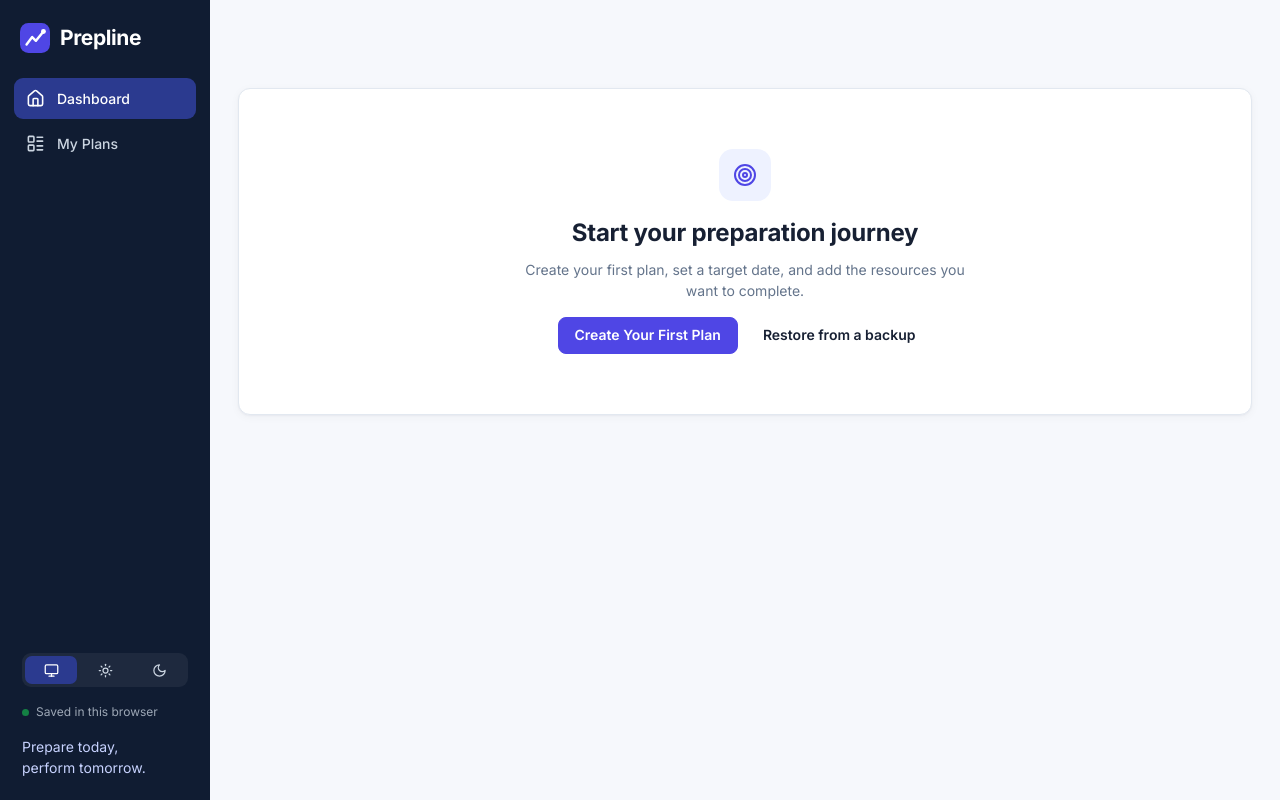
Test case: App › starts with an invitation to create a plan, then shows its dashboard
The image size is (1280, 800).
Expected: the heading "Start your preparation journey" is shown, [572,215,918,251]
Expected: the text "Saved in this browser" is shown, [22,704,158,719]
Click the button "Create Your First Plan".
click(648, 335)  # box [558,317,738,354]
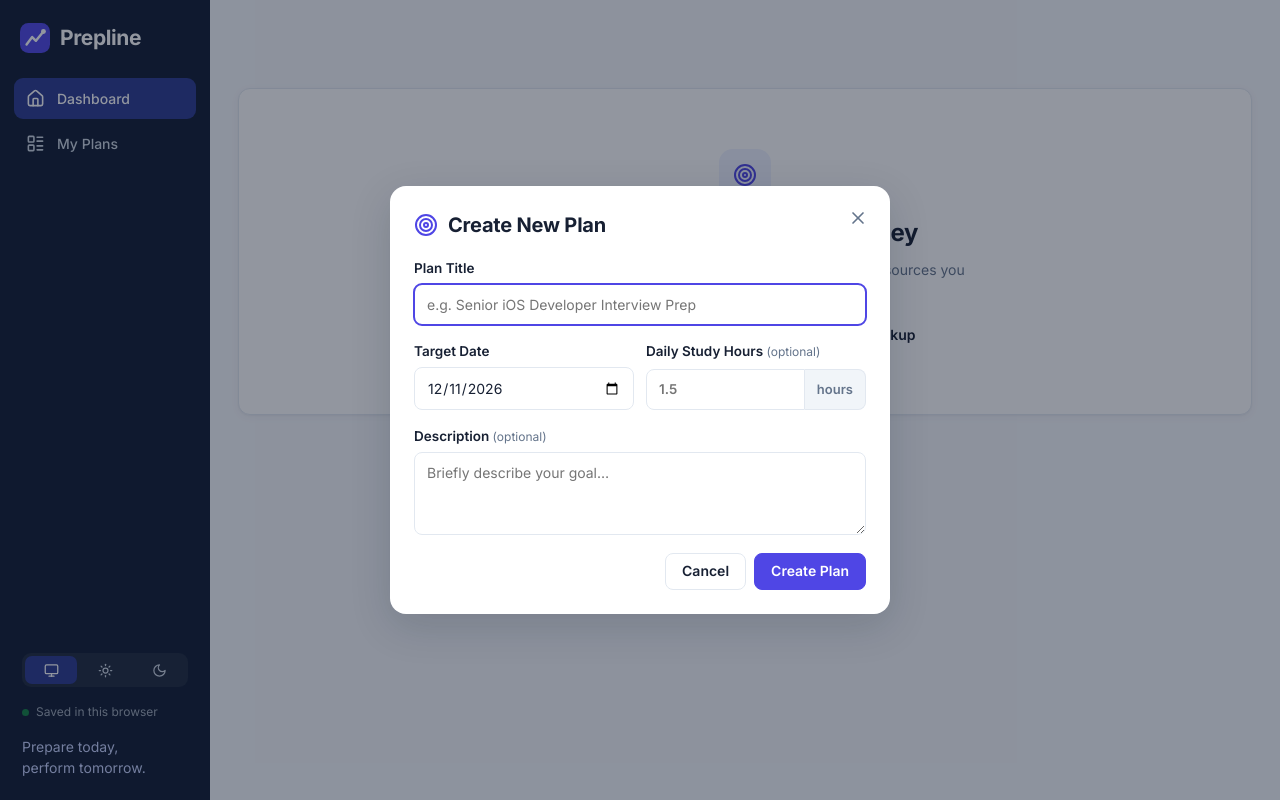
Type "System design" into the field labelled "Plan Title".
click(640, 304); type("System design")  # box [414,284,866,325]
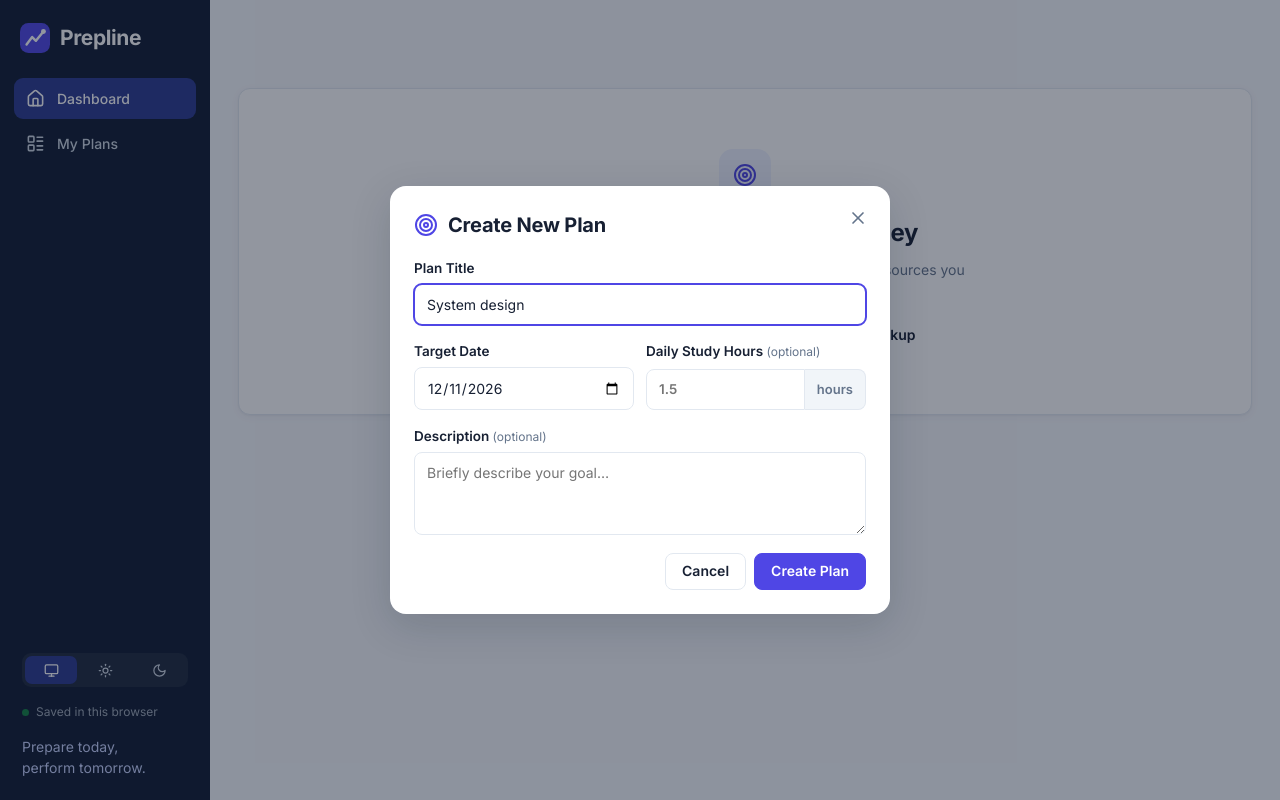
Click the button "Create Plan".
click(810, 572)  # box [754,554,866,590]
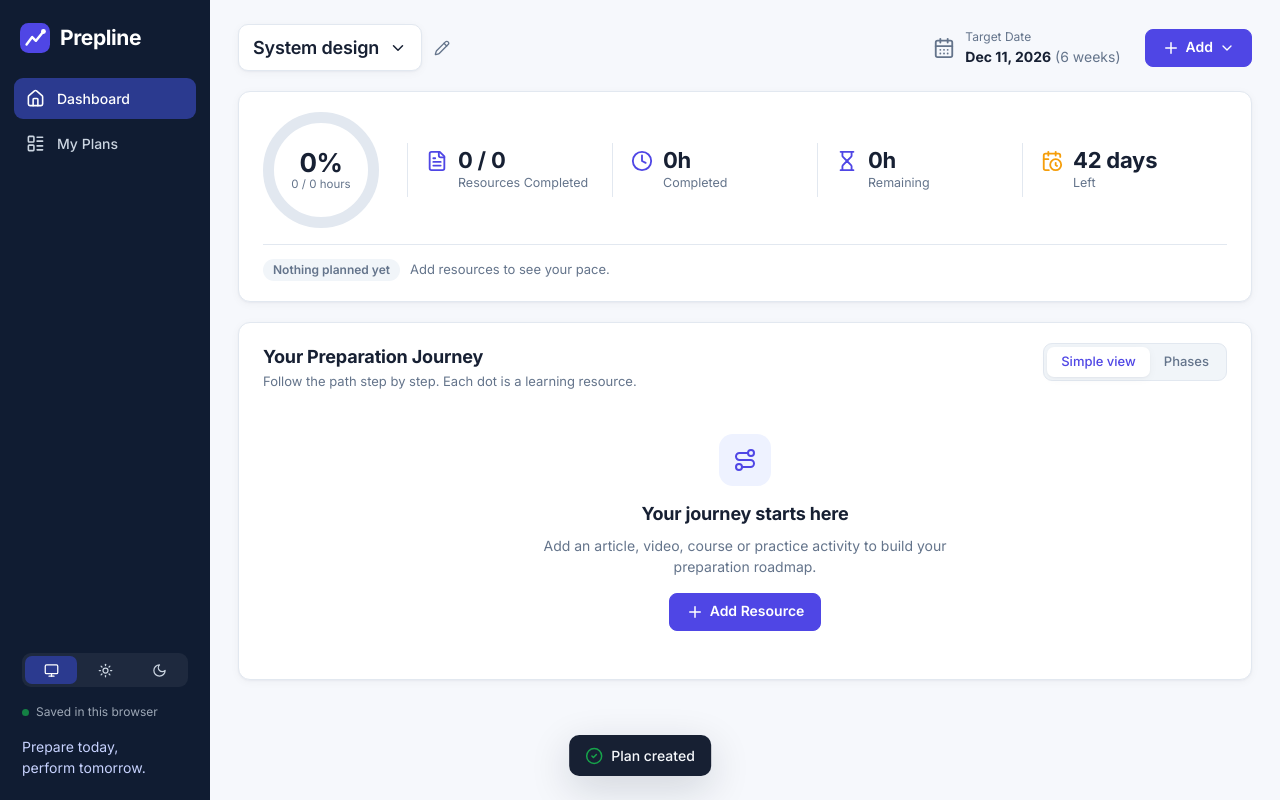
Now the heading "System design" is shown, box [253,34,379,61]
Now the heading "Your journey starts here" is shown, box [641,500,849,526]
Now the message reads "Plan created", box [611,747,695,764]
